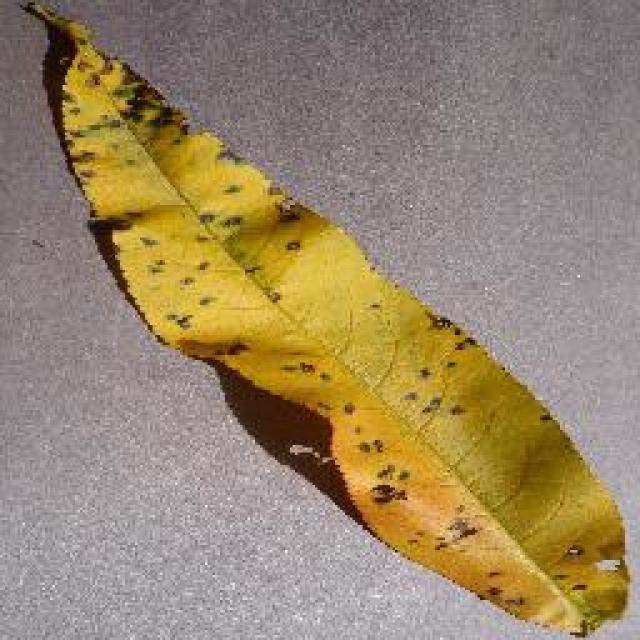Peach_Bacterial_Spot: (30, 33, 510, 555)
